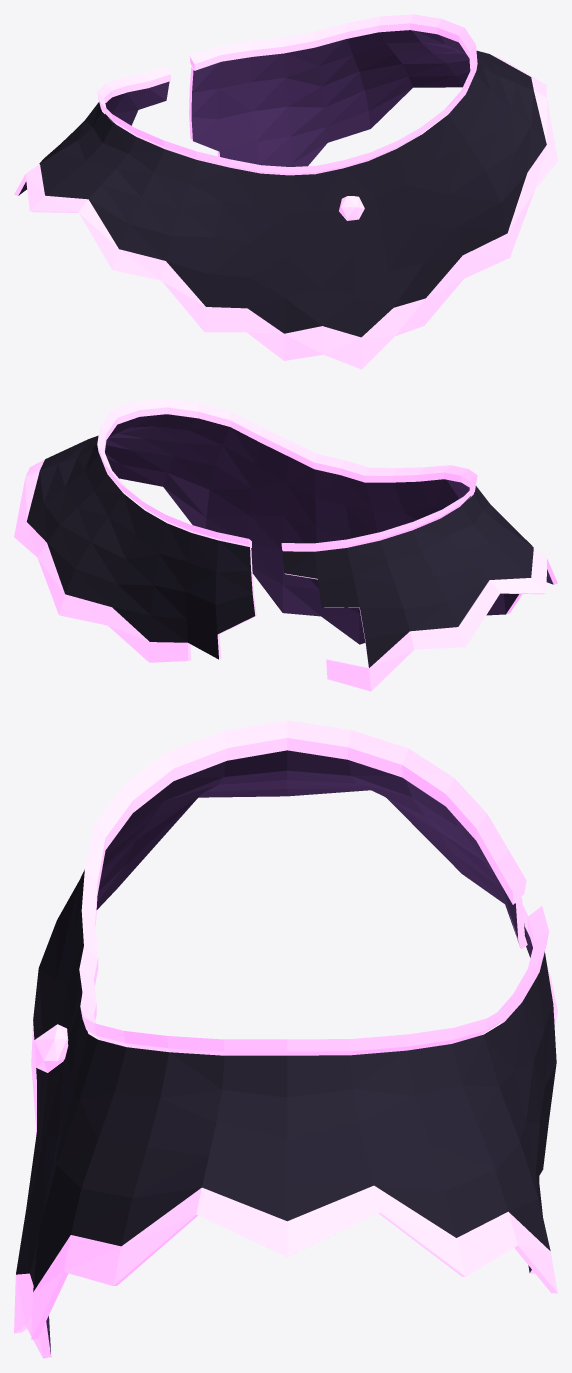
The model's file is A2S_ArcherMantle.fbx.
The picture shows the model from 3 angles, top to bottom: view 1: azimuth 30°, elevation 25°; view 2: azimuth 150°, elevation 25°; view 3: azimuth 270°, elevation 25°; orthographic projection. The views are drawn at different scales.
Visible parts, largest first — view 1: A2S_ArcherMantle; view 2: A2S_ArcherMantle; view 3: A2S_ArcherMantle.
Boxes of the visible parts, box(x1,y1,x2,y2) form: A2S_ArcherMantle: box(14, 14, 557, 369); A2S_ArcherMantle: box(14, 398, 557, 691); A2S_ArcherMantle: box(14, 720, 557, 1358).
Bounding box in the file's own units: 72.13 × 32.68 × 35.5.
